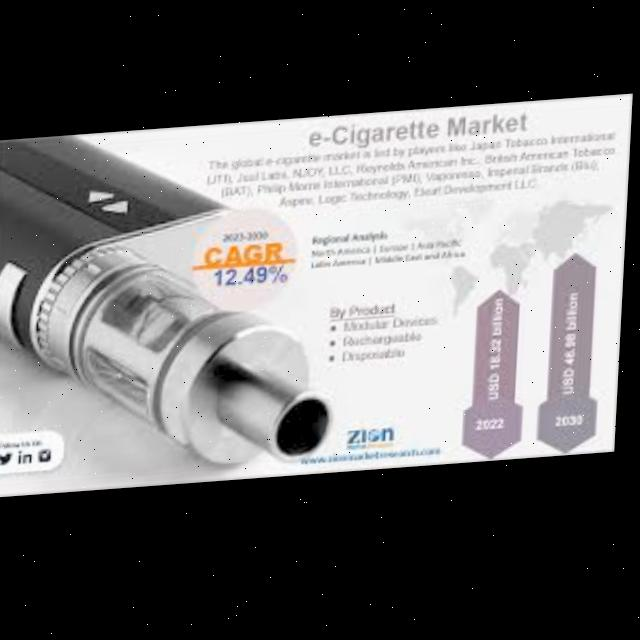vape: (0, 121, 350, 486)
